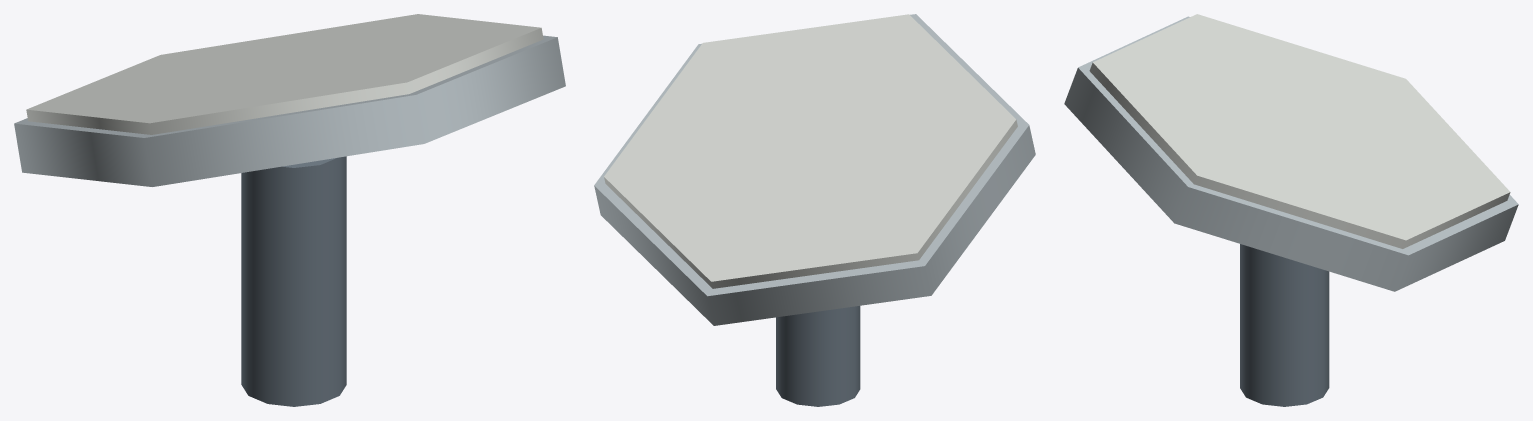
File: curiosity_body.power_comms.high_gain.glb
The picture shows the model from 3 angles, left to right: view 1: azimuth 30°, elevation 25°; view 2: azimuth 150°, elevation 25°; view 3: azimuth 270°, elevation 25°; orthographic projection. The views are drawn at different scales.
Visible parts, largest first — view 1: curiosity_body.power_comms.high_gain.elevation.mesh_Pale_the, curiosity_body.power_comms.high_gain.elevation.mesh_Satin_al, curiosity_body.power_comms.high_gain.mesh_Machined_steel; view 2: curiosity_body.power_comms.high_gain.elevation.mesh_Pale_the, curiosity_body.power_comms.high_gain.elevation.mesh_Satin_al, curiosity_body.power_comms.high_gain.mesh_Machined_steel; view 3: curiosity_body.power_comms.high_gain.elevation.mesh_Pale_the, curiosity_body.power_comms.high_gain.elevation.mesh_Satin_al, curiosity_body.power_comms.high_gain.mesh_Machined_steel.
Boxes of the visible parts, <box> form: curiosity_body.power_comms.high_gain.elevation.mesh_Pale_the: <box>26,14,543,134</box>; curiosity_body.power_comms.high_gain.elevation.mesh_Satin_al: <box>14,35,565,186</box>; curiosity_body.power_comms.high_gain.mesh_Machined_steel: <box>241,156,346,406</box>; curiosity_body.power_comms.high_gain.elevation.mesh_Pale_the: <box>604,14,1017,288</box>; curiosity_body.power_comms.high_gain.elevation.mesh_Satin_al: <box>594,14,1035,325</box>; curiosity_body.power_comms.high_gain.mesh_Machined_steel: <box>776,306,860,406</box>; curiosity_body.power_comms.high_gain.elevation.mesh_Pale_the: <box>1089,14,1510,248</box>; curiosity_body.power_comms.high_gain.elevation.mesh_Satin_al: <box>1064,16,1518,291</box>; curiosity_body.power_comms.high_gain.mesh_Machined_steel: <box>1240,244,1329,406</box>.
Bounding box in the file's own units: 0.3984 × 0.3548 × 0.4488.
